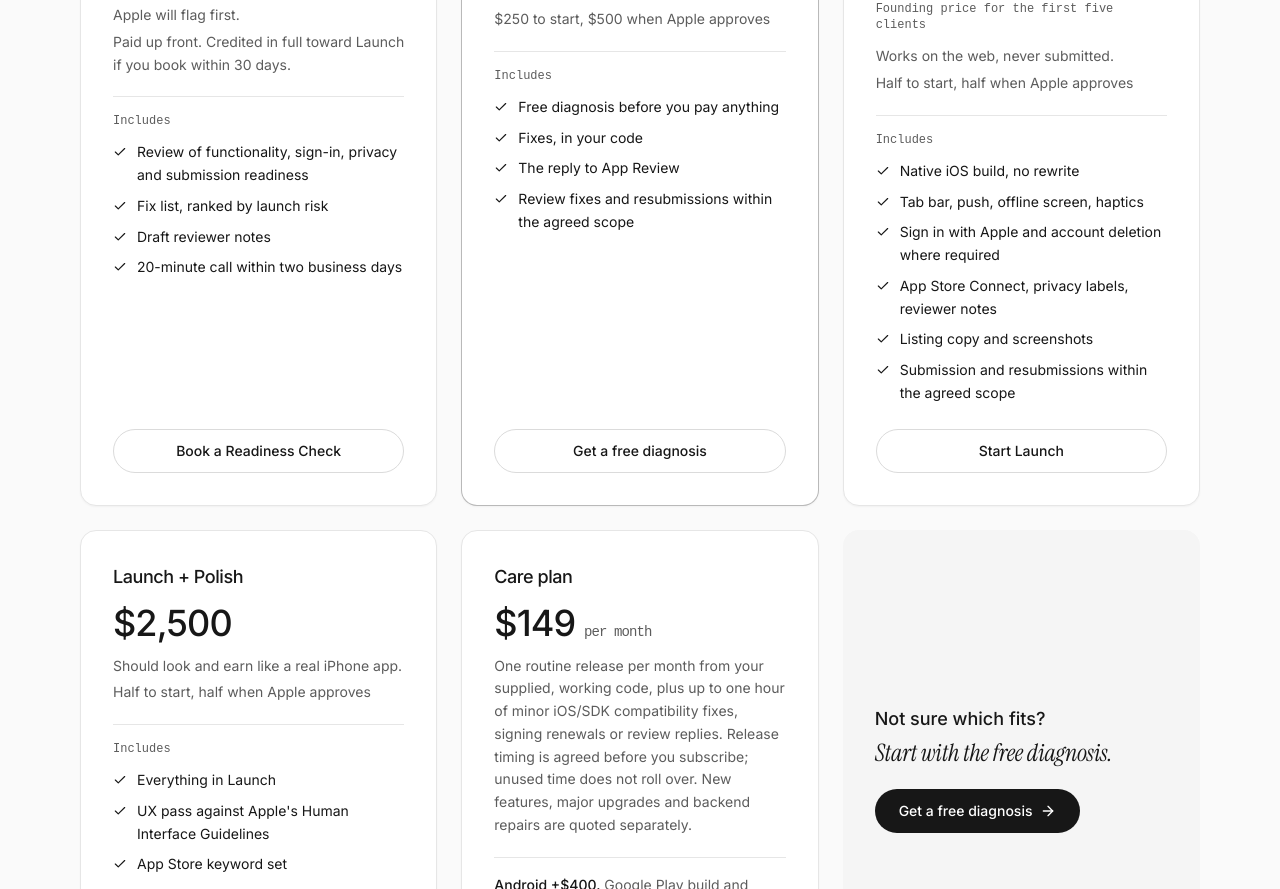
Test: App Store launch page › preselects the package a visitor clicked in the intake form
(page scrolled)
Click the link "Book a Readiness Check". click: [259, 451]
box: 113,429 -> 404,473
(page scrolled)
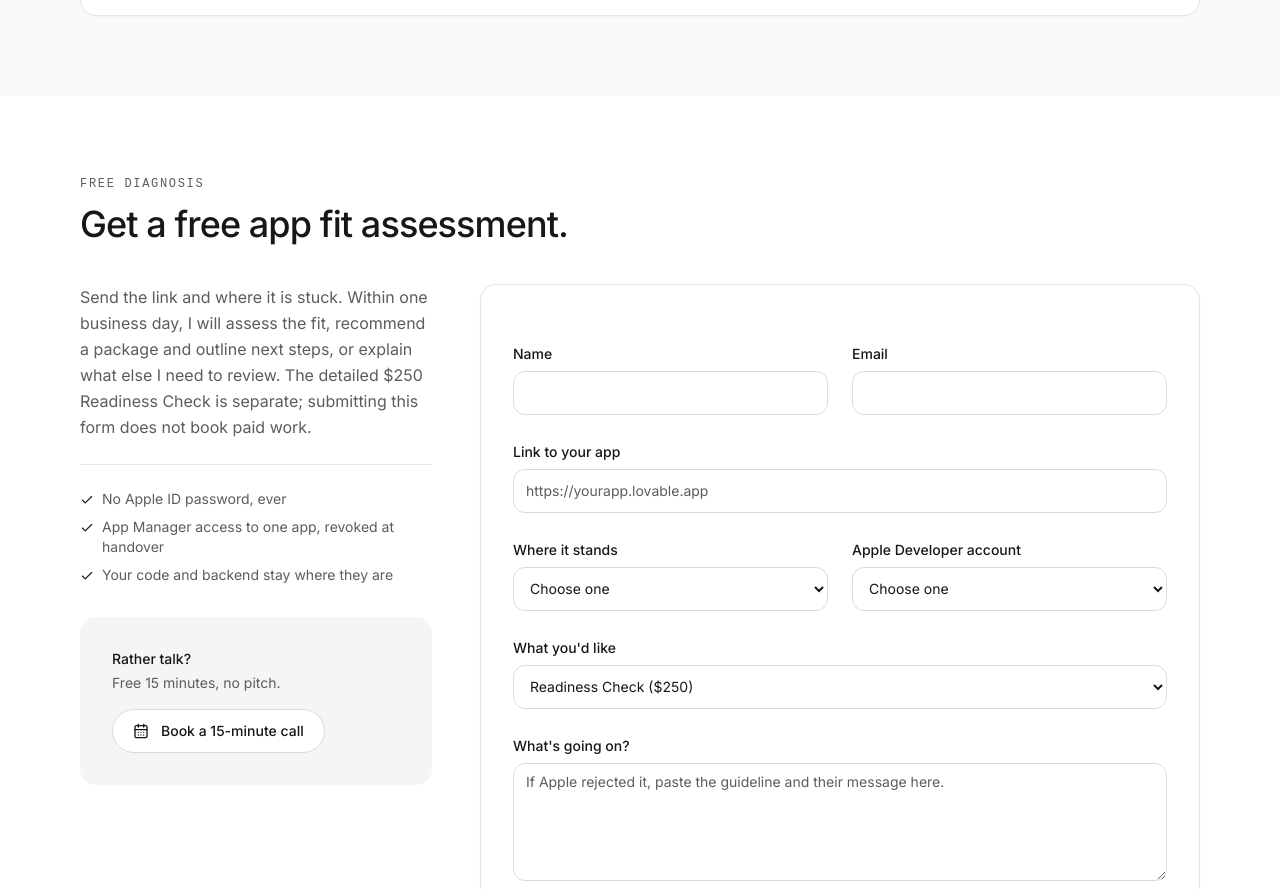
Expected: the dropdown labelled "What you'd like" shows "Readiness Check ($250)", 513,665 -> 1167,709
